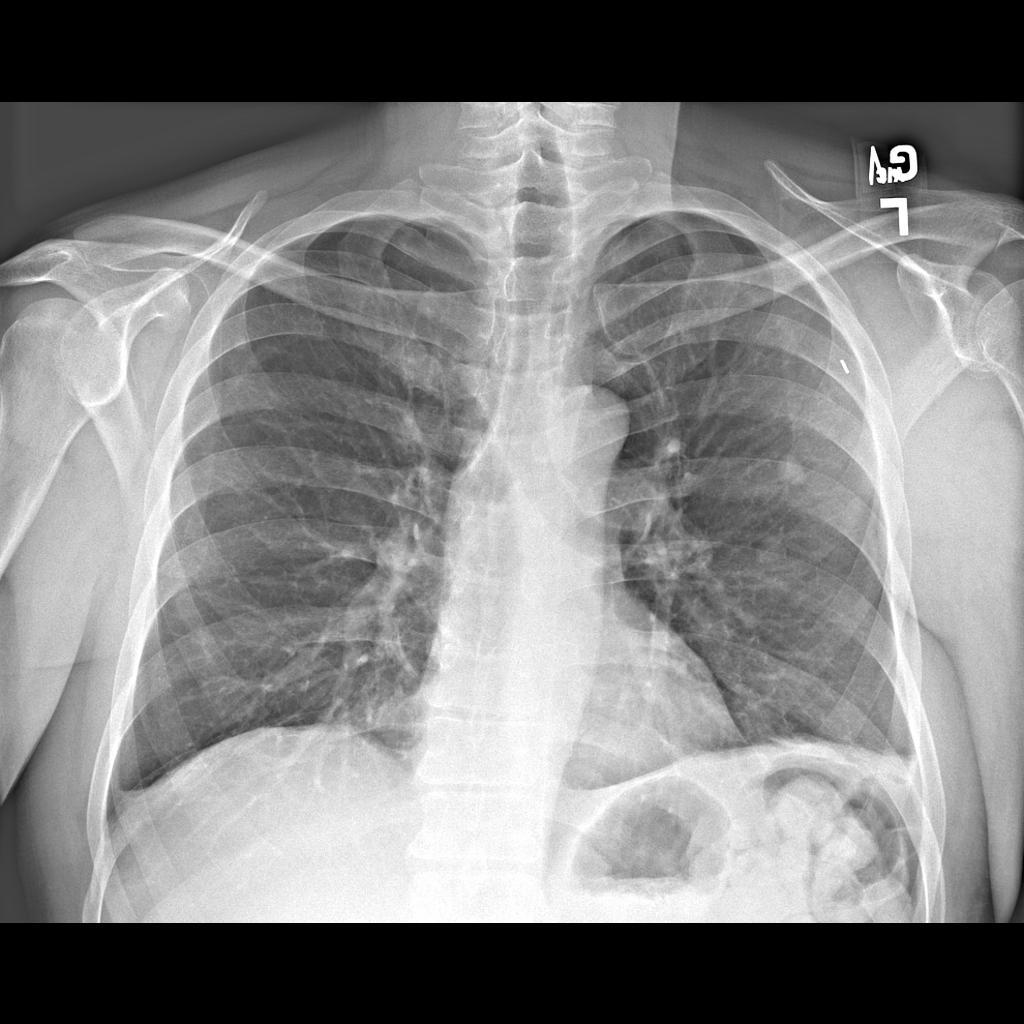Nodule: (771, 448, 819, 496)
